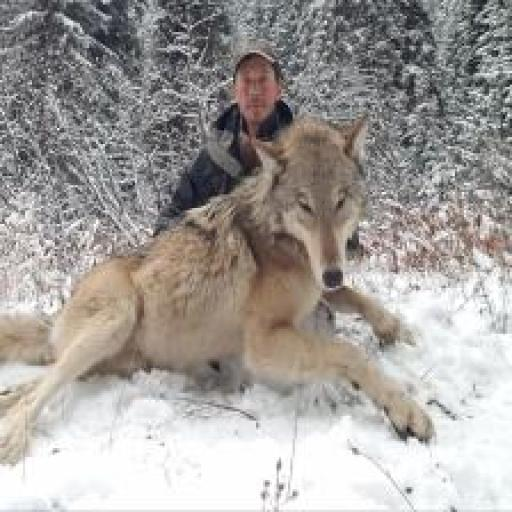wolf: (0, 110, 440, 487)
